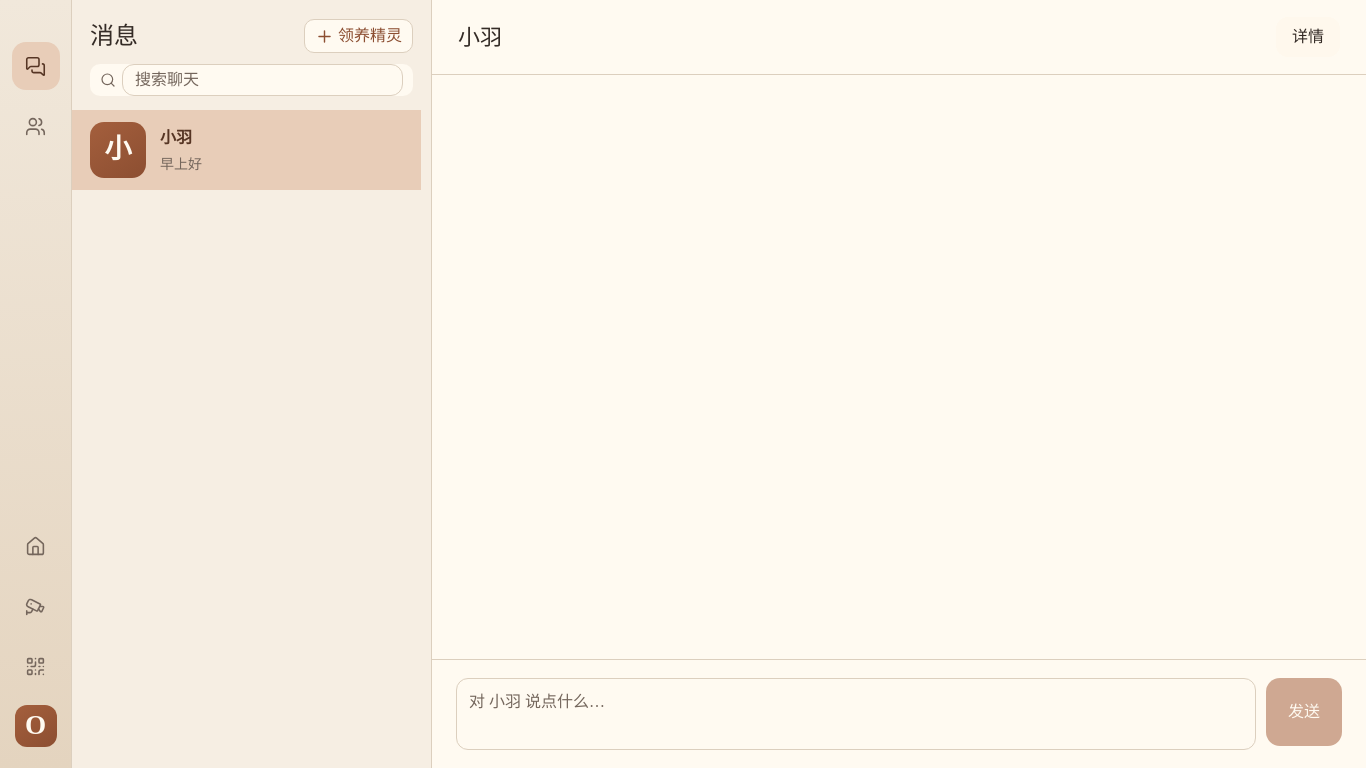
Test: ChatPage list pane headings › switches to one visible Elfie heading without the repeated eyebrow
Click the button named "精灵列表": (36, 126) [12,102,60,150]
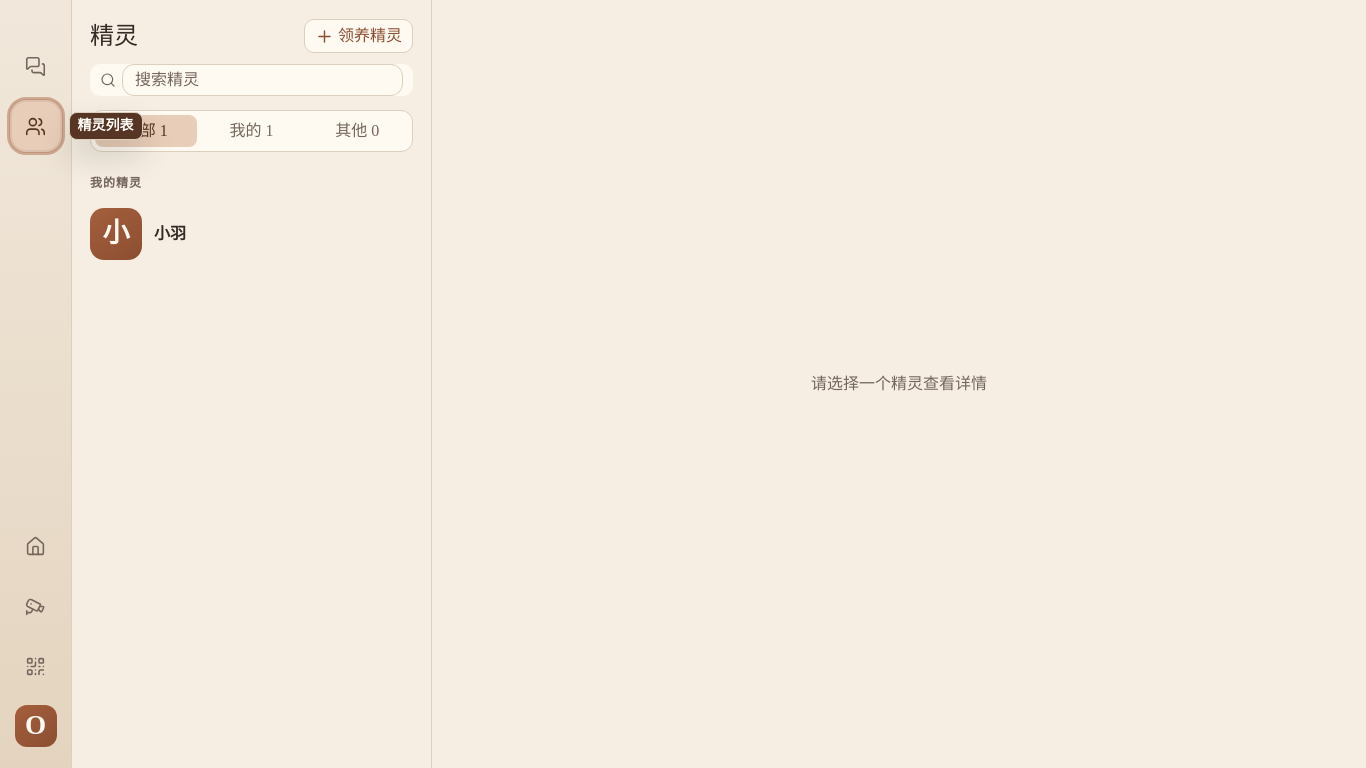
Now the heading "精灵" is shown, box [90,18,138,54]
Now the field with placeholder "搜索精灵" is shown, box [122,64,403,96]
